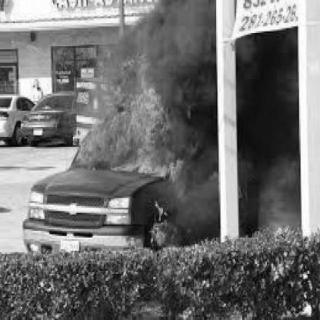Fire: (71, 54, 179, 182)
Smoke: (178, 51, 214, 231)
